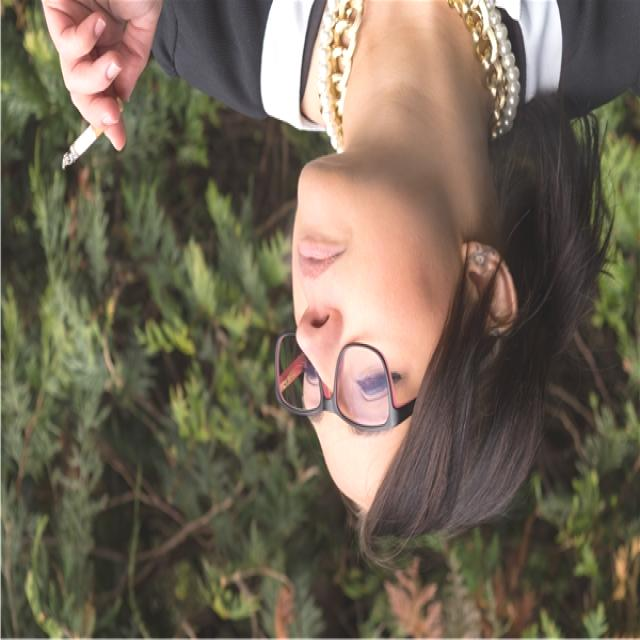smoke: (54, 98, 122, 180)
